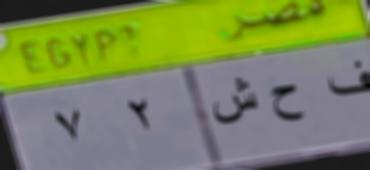2: (124, 90, 158, 136)
7: (48, 102, 86, 144)
7aa: (268, 76, 308, 128)
faa: (323, 58, 370, 106)
sheen: (210, 73, 259, 131)
